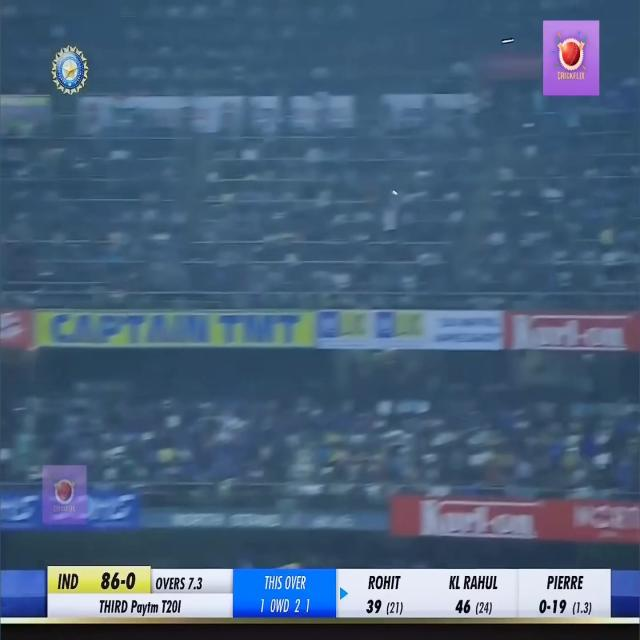fully_visible: (128, 592, 162, 624)
